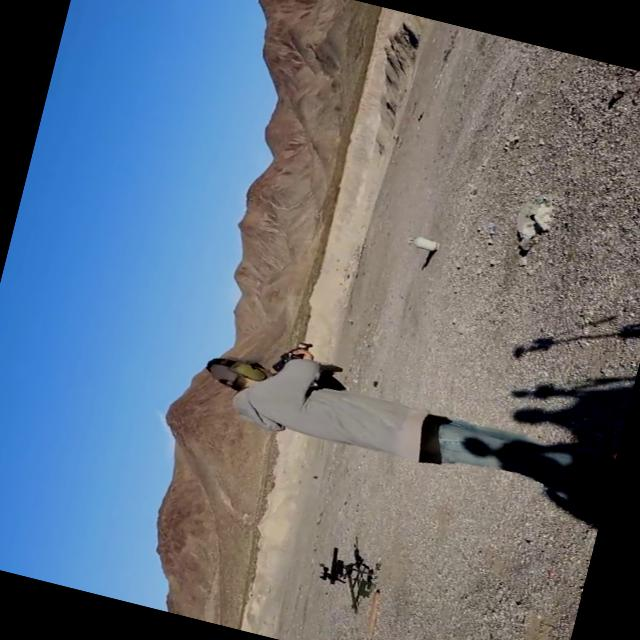long weapon: (268, 320, 353, 399), (311, 526, 379, 600)
